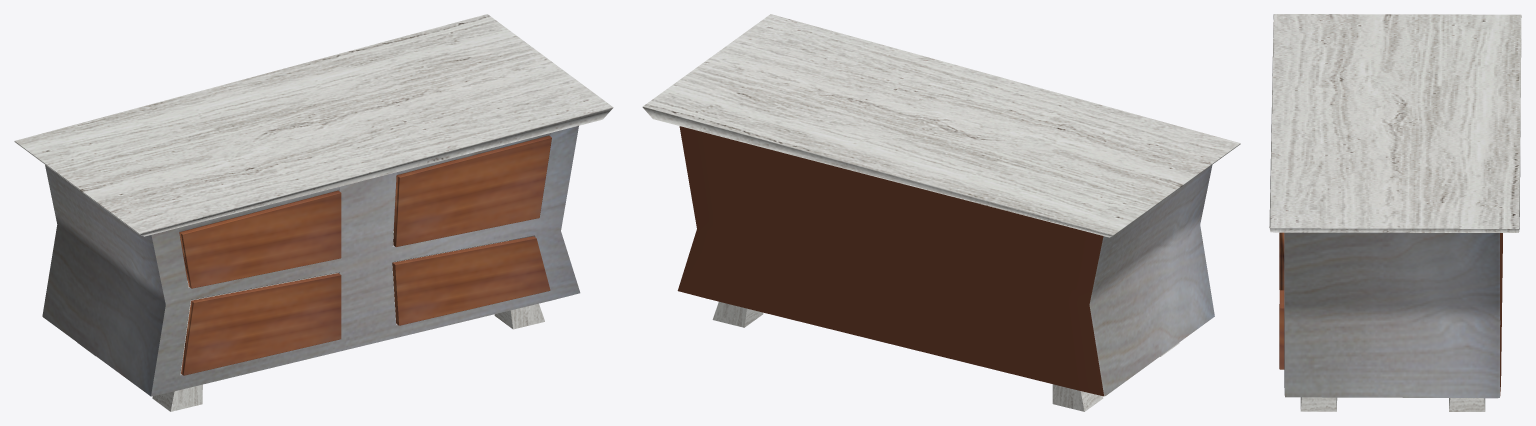
The model's file is Drawers.fbx.
The picture shows the model from 3 angles, left to right: view 1: azimuth 30°, elevation 25°; view 2: azimuth 150°, elevation 25°; view 3: azimuth 270°, elevation 25°; orthographic projection.
Visible parts, largest first — view 1: geoDrawers; view 2: geoDrawers; view 3: geoDrawers.
Boxes of the visible parts, bbox=[...] form: geoDrawers: bbox=[14, 14, 613, 411]; geoDrawers: bbox=[642, 14, 1240, 411]; geoDrawers: bbox=[1269, 14, 1521, 411].
Size of the model in its own units: 190 by 81.56 by 89.08.
